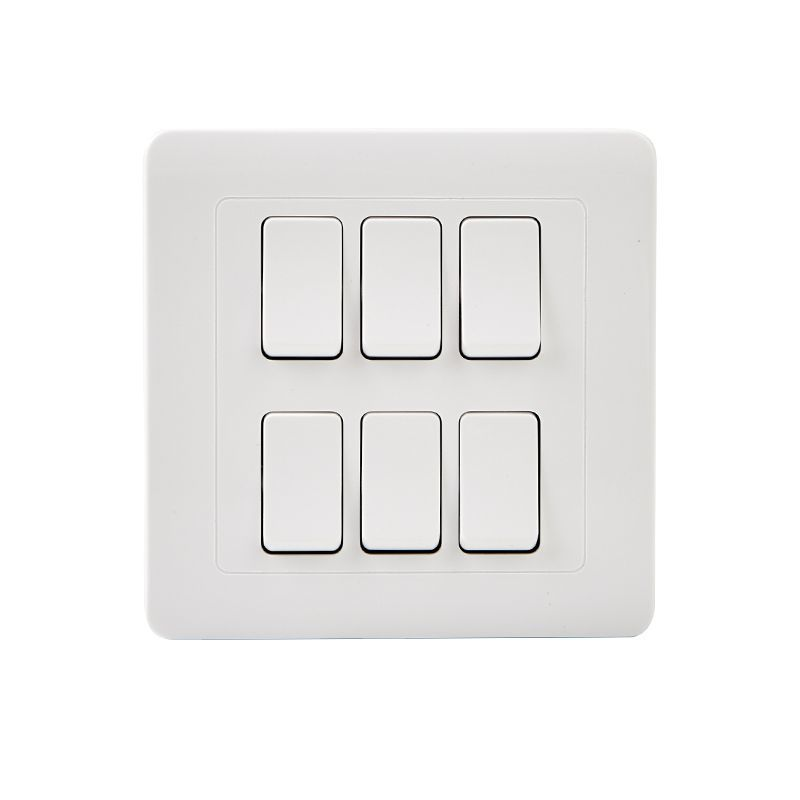button: (143, 128, 663, 642)
